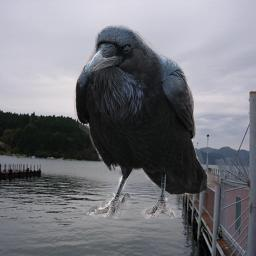Crow: (73, 24, 210, 219)
